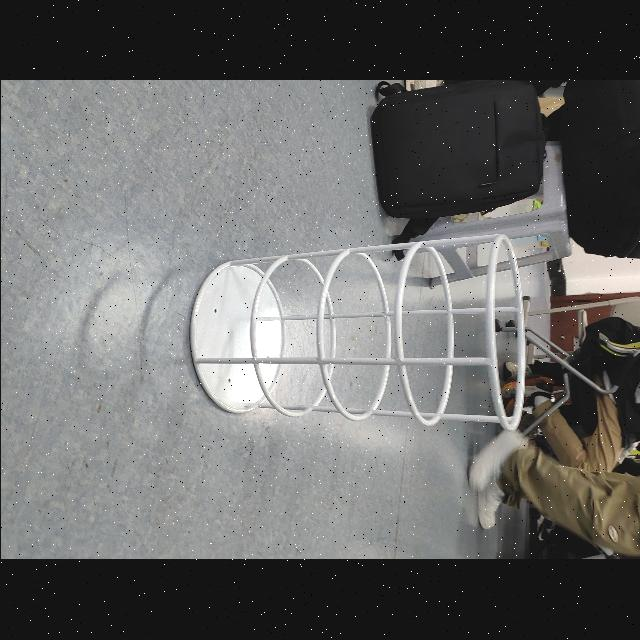S: (182, 233, 528, 435)
